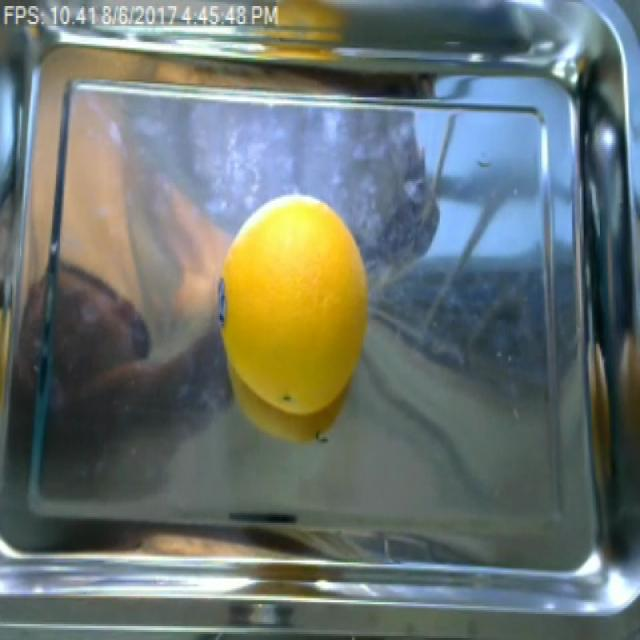Fruit: (214, 189, 374, 447), (267, 0, 356, 36)
